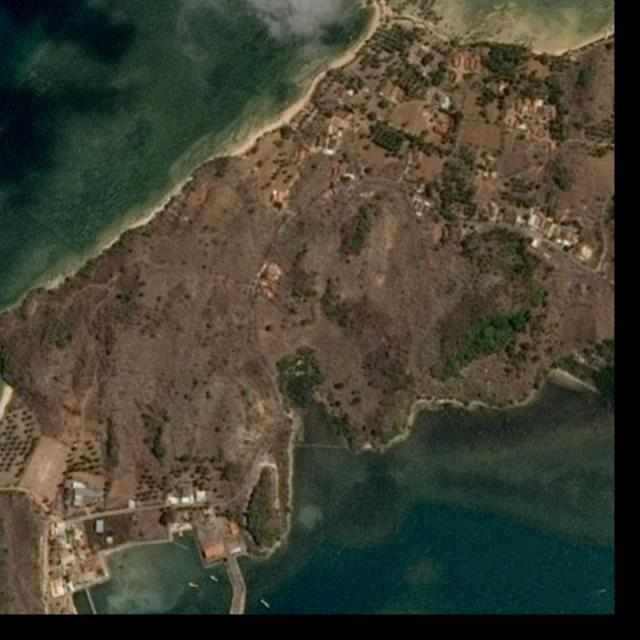ship: (260, 598, 271, 610), (188, 582, 199, 589), (210, 575, 219, 583), (602, 589, 609, 594)
